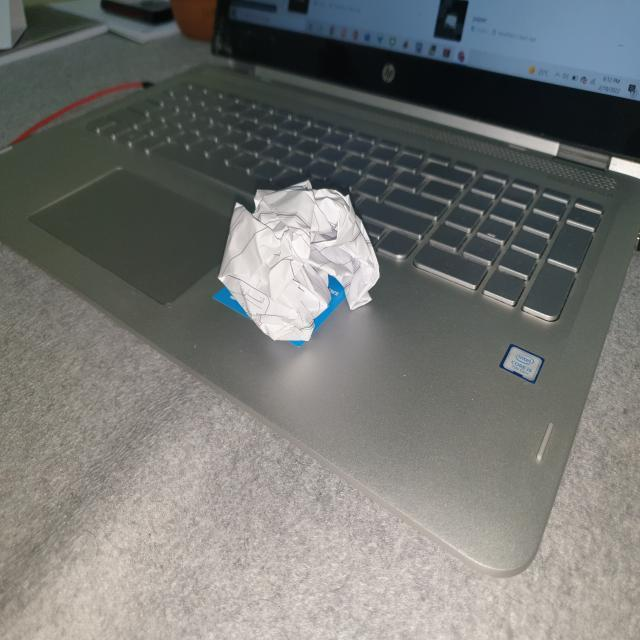Paper: (221, 178, 380, 343)
